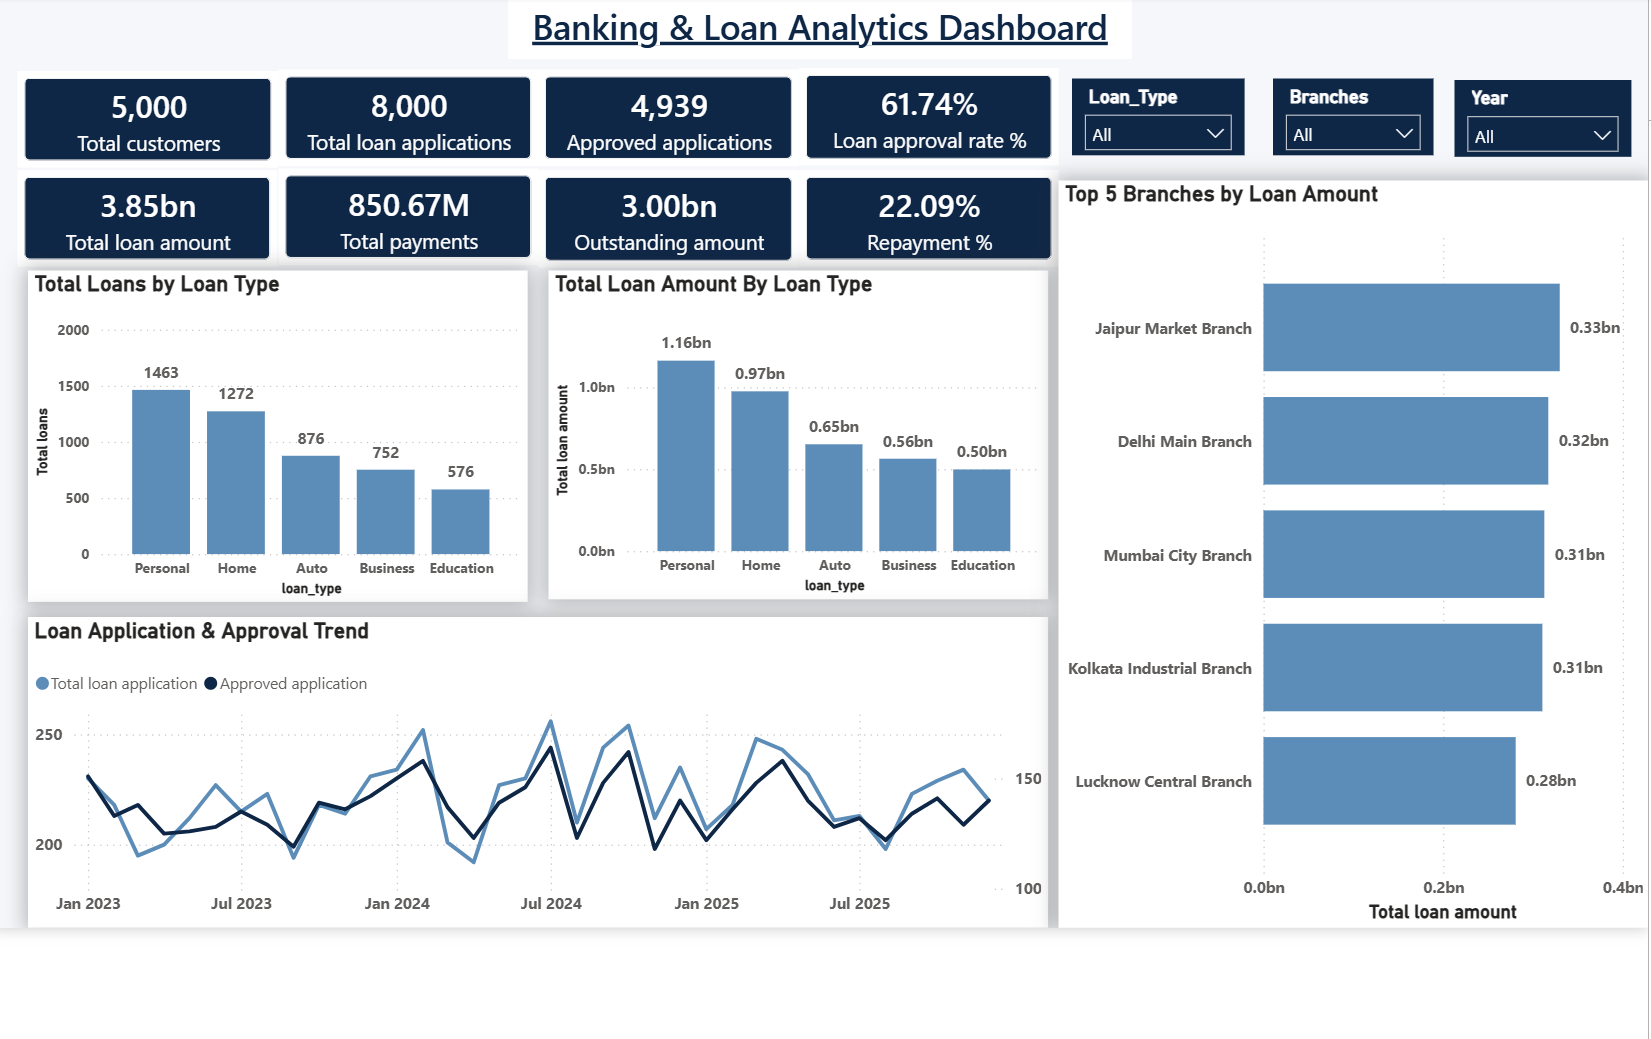

What the dashboard file says about the page in this screenshot:
{"tool":"powerbi","page":{"name":"Executive Overview","canvas":[1280,720],"ordinal":0},"visuals":[{"type":"textbox","box":[399,0,482,48.7],"z":0},{"type":"cardVisual","fields":{"Data":["loan_applications.Total loan application"]},"box":[221.3,56.8,200.6,74.8],"z":1000},{"type":"cardVisual","fields":{"Data":["customers.total customers"]},"box":[19.7,57.9,201.7,74.8],"z":2000},{"type":"cardVisual","fields":{"Data":["loan_applications.Approved application"]},"box":[421.8,56.8,201.7,74.8],"z":3000},{"type":"cardVisual","fields":{"Data":["loan_applications.Loan approval rate %"]},"box":[623.4,55.6,200.5,75.3],"z":4000},{"type":"cardVisual","fields":{"Data":["loans.Total loan amount"]},"box":[19.7,134.4,200.6,74.8],"z":5000},{"type":"cardVisual","fields":{"Data":["payments.Total payments"]},"box":[221.3,133.3,200.6,74.8],"z":6000},{"type":"cardVisual","fields":{"Data":["loans.Outstanding amount"]},"box":[421.8,134.4,201.4,75],"z":7000},{"type":"cardVisual","fields":{"Data":["payments.Repayment %"]},"box":[623.4,134.4,200.6,74.8],"z":8000},{"type":"clusteredColumnChart","title":"Total Loans by Loan Type","fields":{"Category":["loans.loan_type"],"Y":["loans.Total loans"]},"box":[27.8,212,385.9,256.1],"z":9000},{"type":"clusteredColumnChart","title":"Total Loan Amount By Loan Type","fields":{"Category":["loans.loan_type"],"Y":["loans.Total loan amount"]},"box":[429.9,212,385.9,253.8],"z":10000},{"type":"lineChart","title":"Loan Application & Approval Trend","fields":{"Y":["loan_applications.Total loan application"],"Y2":["loan_applications.Approved application"],"Category":["DateTable.Month Year Date"]},"box":[27.8,479.7,787.9,239.9],"z":11000},{"type":"barChart","title":"Top 5 Branches by Loan Amount","fields":{"Category":["branches.branch_name"],"Y":["loans.Total loan amount"]},"box":[823.9,142.5,456.5,577],"z":12000},{"type":"slicer","fields":{"Values":["loans.loan_type"]},"box":[834.3,63.7,133.3,59.1],"z":12001},{"type":"slicer","fields":{"Values":["branches.branch_name"]},"box":[989.6,63.7,124,59.1],"z":12002},{"type":"slicer","fields":{"Values":["DateTable.Year"]},"box":[1129.8,64.9,136.7,59.1],"z":12003}]}

Visuals, with their boxes on the page's 1280x720 design canvas (x1, y1, x2, y2). These are canvas units, not pixel positions in the 1651x1039 screenshot, which may show the page scaled, cropped or inside an application window:
textbox: l=399, t=0, r=881, b=49
cardVisual - loan_applications.Total loan application: l=221, t=57, r=422, b=132
cardVisual - customers.total customers: l=20, t=58, r=221, b=133
cardVisual - loan_applications.Approved application: l=422, t=57, r=624, b=132
cardVisual - loan_applications.Loan approval rate %: l=623, t=56, r=824, b=131
cardVisual - loans.Total loan amount: l=20, t=134, r=220, b=209
cardVisual - payments.Total payments: l=221, t=133, r=422, b=208
cardVisual - loans.Outstanding amount: l=422, t=134, r=623, b=209
cardVisual - payments.Repayment %: l=623, t=134, r=824, b=209
"Total Loans by Loan Type" clusteredColumnChart: l=28, t=212, r=414, b=468
"Total Loan Amount By Loan Type" clusteredColumnChart: l=430, t=212, r=816, b=466
"Loan Application & Approval Trend" lineChart: l=28, t=480, r=816, b=720
"Top 5 Branches by Loan Amount" barChart: l=824, t=142, r=1280, b=720
slicer - loans.loan_type: l=834, t=64, r=968, b=123
slicer - branches.branch_name: l=990, t=64, r=1114, b=123
slicer - DateTable.Year: l=1130, t=65, r=1266, b=124
